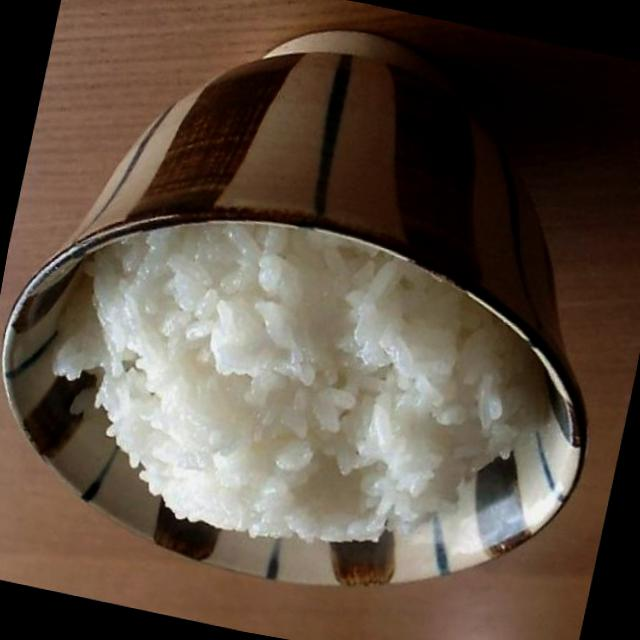Rice: (52, 190, 572, 595)
